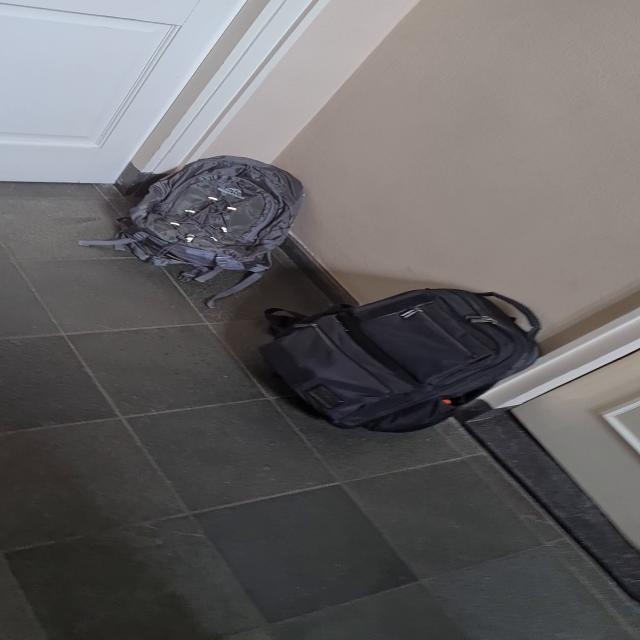backpack: (256, 290, 548, 436), (126, 154, 312, 278)
